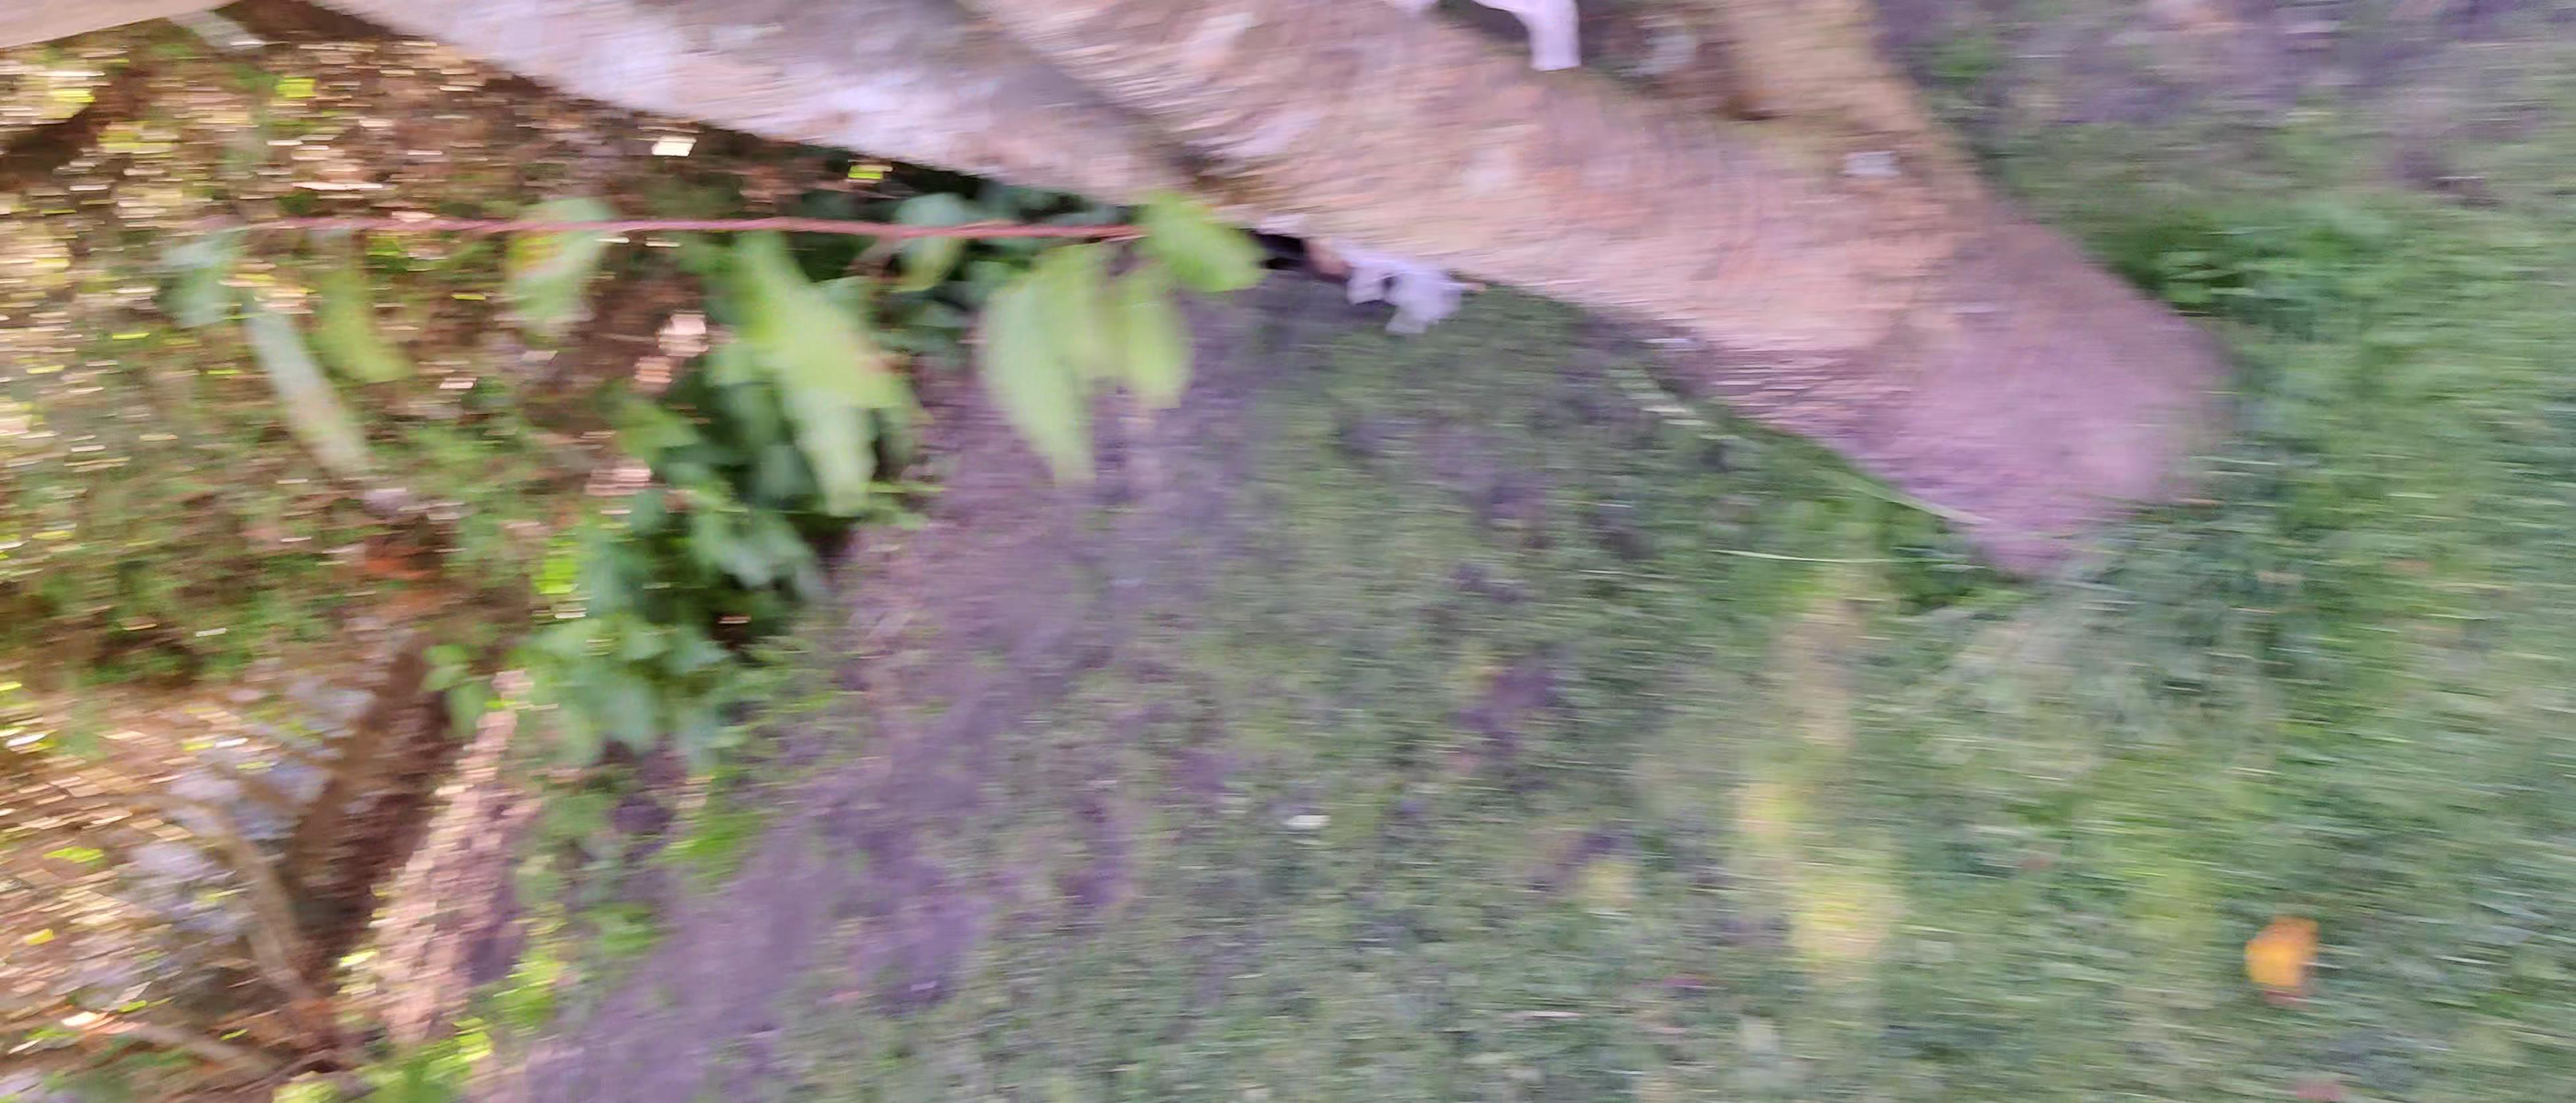Dog: (1252, 0, 1595, 288)
